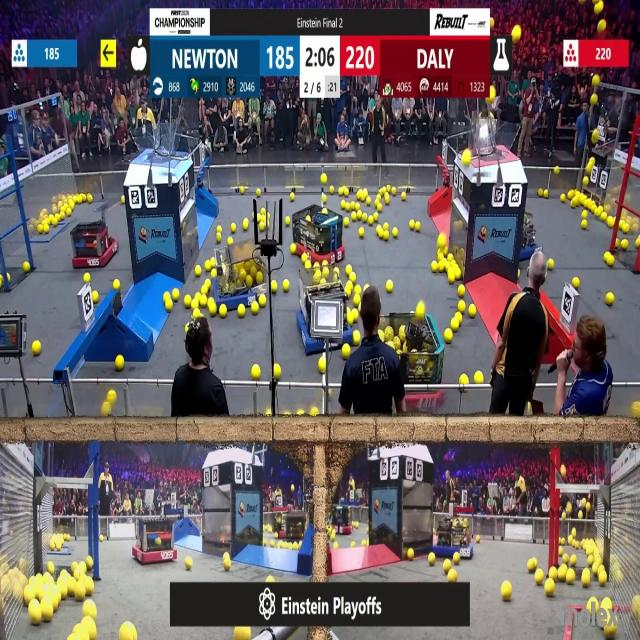ball_airborne: (236, 627, 251, 639), (513, 26, 523, 43), (462, 149, 470, 164), (595, 2, 603, 15), (592, 130, 599, 144), (588, 160, 595, 174), (593, 74, 600, 86), (560, 464, 566, 478), (598, 21, 605, 33), (591, 95, 598, 106), (490, 88, 496, 100), (566, 502, 572, 512), (586, 501, 592, 511), (147, 110, 153, 120), (577, 512, 583, 521), (584, 177, 590, 186), (490, 17, 495, 27), (571, 528, 576, 537), (138, 109, 142, 119), (490, 112, 494, 120), (562, 513, 566, 521)
ball_ground: (122, 624, 137, 640), (31, 607, 42, 627), (501, 582, 511, 602), (86, 601, 98, 617), (42, 606, 52, 624), (543, 581, 553, 598), (604, 625, 615, 640), (74, 586, 84, 602), (583, 570, 592, 587), (598, 570, 607, 586), (534, 570, 544, 584), (565, 570, 575, 584), (86, 582, 95, 597), (222, 555, 230, 571), (632, 402, 640, 418), (102, 404, 111, 418), (527, 558, 536, 572), (33, 341, 41, 356), (115, 355, 123, 370), (417, 303, 425, 318), (209, 302, 217, 317), (353, 333, 361, 347), (252, 364, 260, 378), (558, 568, 566, 582), (218, 306, 226, 319), (343, 345, 351, 358), (439, 235, 447, 248), (318, 358, 325, 372), (274, 364, 282, 376), (386, 280, 394, 292), (605, 292, 613, 304), (474, 372, 482, 384), (238, 306, 246, 318), (449, 570, 457, 582), (446, 332, 454, 344), (444, 560, 452, 572), (258, 294, 266, 306), (606, 216, 614, 228), (108, 390, 116, 402), (550, 567, 558, 579), (606, 253, 613, 266), (172, 289, 180, 300), (185, 558, 192, 570), (458, 285, 465, 297), (271, 281, 278, 293), (452, 319, 459, 331), (468, 306, 475, 318), (428, 554, 435, 566), (88, 557, 95, 569), (91, 628, 98, 640), (458, 303, 466, 313), (311, 408, 319, 418), (460, 375, 468, 385), (621, 240, 629, 250), (408, 550, 415, 561), (243, 219, 250, 230), (166, 301, 173, 312), (93, 291, 100, 302), (455, 270, 462, 281), (453, 554, 460, 565), (283, 280, 289, 292), (252, 304, 258, 316), (194, 266, 200, 278), (184, 294, 190, 306), (449, 272, 455, 284), (352, 310, 358, 322), (47, 562, 53, 574), (113, 280, 120, 290), (24, 264, 31, 274), (572, 278, 579, 288), (354, 295, 361, 305), (354, 284, 361, 294), (569, 556, 576, 566), (602, 599, 609, 609), (205, 262, 212, 272), (431, 262, 437, 273), (438, 264, 444, 275), (588, 556, 594, 567), (268, 574, 275, 583), (201, 295, 208, 304), (190, 301, 197, 310), (623, 222, 630, 231), (290, 244, 296, 254), (84, 274, 90, 284), (547, 261, 553, 271), (392, 229, 398, 239), (358, 229, 364, 239), (192, 309, 198, 319), (384, 232, 390, 242), (377, 224, 383, 234), (372, 214, 378, 224), (377, 203, 383, 213), (588, 602, 594, 612), (346, 202, 352, 212), (570, 200, 577, 208), (205, 280, 212, 288), (259, 221, 265, 230), (410, 220, 416, 229), (211, 270, 217, 279), (456, 312, 462, 321), (284, 216, 290, 225), (303, 254, 309, 263), (563, 555, 569, 564), (165, 291, 171, 300), (356, 211, 362, 220), (347, 281, 353, 290), (232, 222, 237, 232), (347, 266, 352, 276), (216, 234, 221, 244), (211, 258, 216, 268), (351, 273, 356, 283), (385, 193, 390, 203), (321, 174, 326, 184), (226, 238, 232, 246), (202, 286, 208, 294), (583, 220, 589, 228), (583, 211, 589, 219), (43, 224, 49, 232), (88, 194, 94, 202), (365, 198, 371, 206), (617, 240, 622, 249), (517, 271, 522, 280), (328, 186, 334, 193), (259, 208, 265, 215), (341, 202, 347, 209), (448, 253, 454, 260), (296, 411, 302, 418), (322, 193, 327, 201), (555, 167, 560, 175), (561, 193, 566, 201), (416, 221, 420, 231), (216, 224, 221, 232), (345, 218, 350, 226), (306, 264, 311, 272), (384, 222, 389, 230), (67, 208, 72, 216), (362, 212, 366, 222), (567, 190, 572, 198), (601, 213, 606, 221), (636, 239, 640, 248), (356, 202, 360, 211), (331, 542, 337, 548), (194, 292, 200, 298), (367, 216, 372, 223), (362, 539, 367, 546), (391, 187, 396, 194), (6, 274, 11, 281), (401, 192, 405, 200), (290, 192, 294, 200), (352, 212, 356, 220), (256, 188, 260, 196), (543, 189, 547, 197), (538, 188, 542, 196), (351, 541, 356, 547), (475, 535, 479, 542), (240, 187, 244, 194), (256, 214, 260, 221), (0, 275, 4, 282), (345, 188, 349, 195), (120, 197, 123, 205), (100, 535, 104, 541), (184, 326, 187, 332)
goal: (466, 123, 522, 159), (128, 130, 186, 160)
robot_blue: (298, 268, 353, 352), (215, 241, 265, 310), (434, 515, 474, 559), (515, 216, 538, 262)
robot_red: (404, 318, 448, 410), (294, 204, 344, 264), (72, 220, 119, 269), (131, 516, 177, 564), (273, 513, 297, 541), (334, 507, 354, 535)
